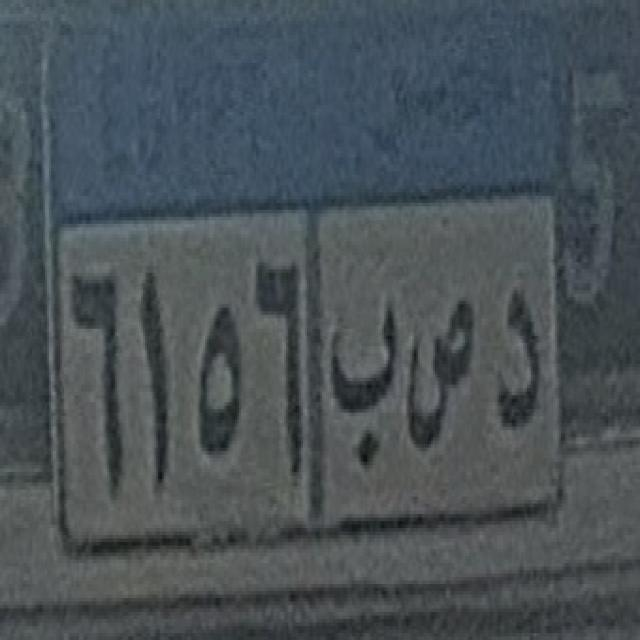1: (124, 259, 194, 506)
5: (190, 290, 256, 472)
6: (61, 253, 146, 500), (245, 246, 322, 499)
Saad: (402, 281, 488, 464)
baa: (316, 268, 406, 492)
daal: (488, 271, 556, 448)
